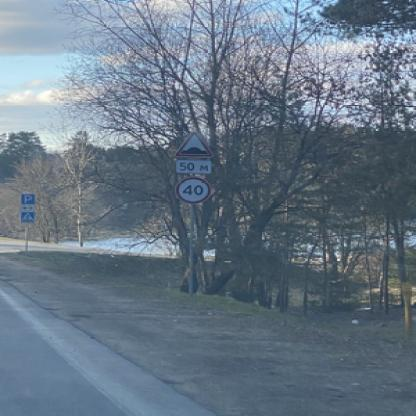Speed Limit 40: (175, 175, 212, 204)
